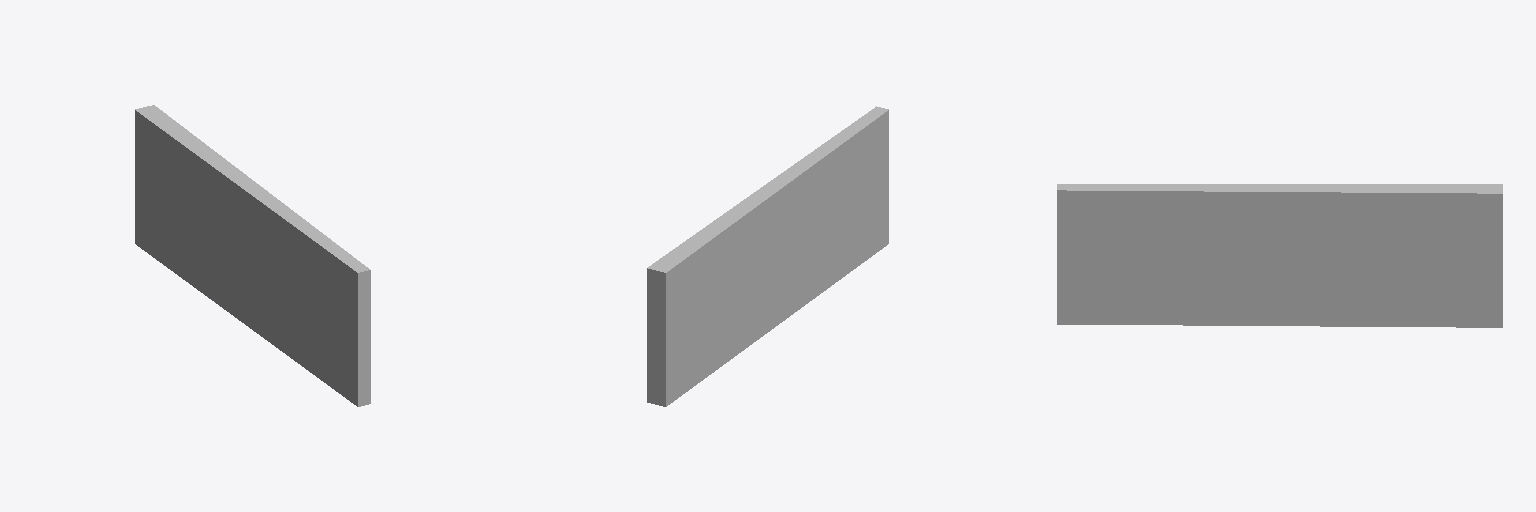
File: platform4.obj
3 views of the same model, side by side, from view 1: azimuth 30°, elevation 25°; view 2: azimuth 150°, elevation 25°; view 3: azimuth 270°, elevation 25° (orthographic).
Parts seen in each view (by area): view 1: Curve.254; view 2: Curve.254; view 3: Curve.254.
Part boxes in pixels (left/top/right/bottom): Curve.254: left=135, top=105, right=370, bottom=406; Curve.254: left=647, top=106, right=888, bottom=406; Curve.254: left=1057, top=184, right=1502, bottom=327.
Size of the model in its own units: 0.1524 by 1 by 3.02.